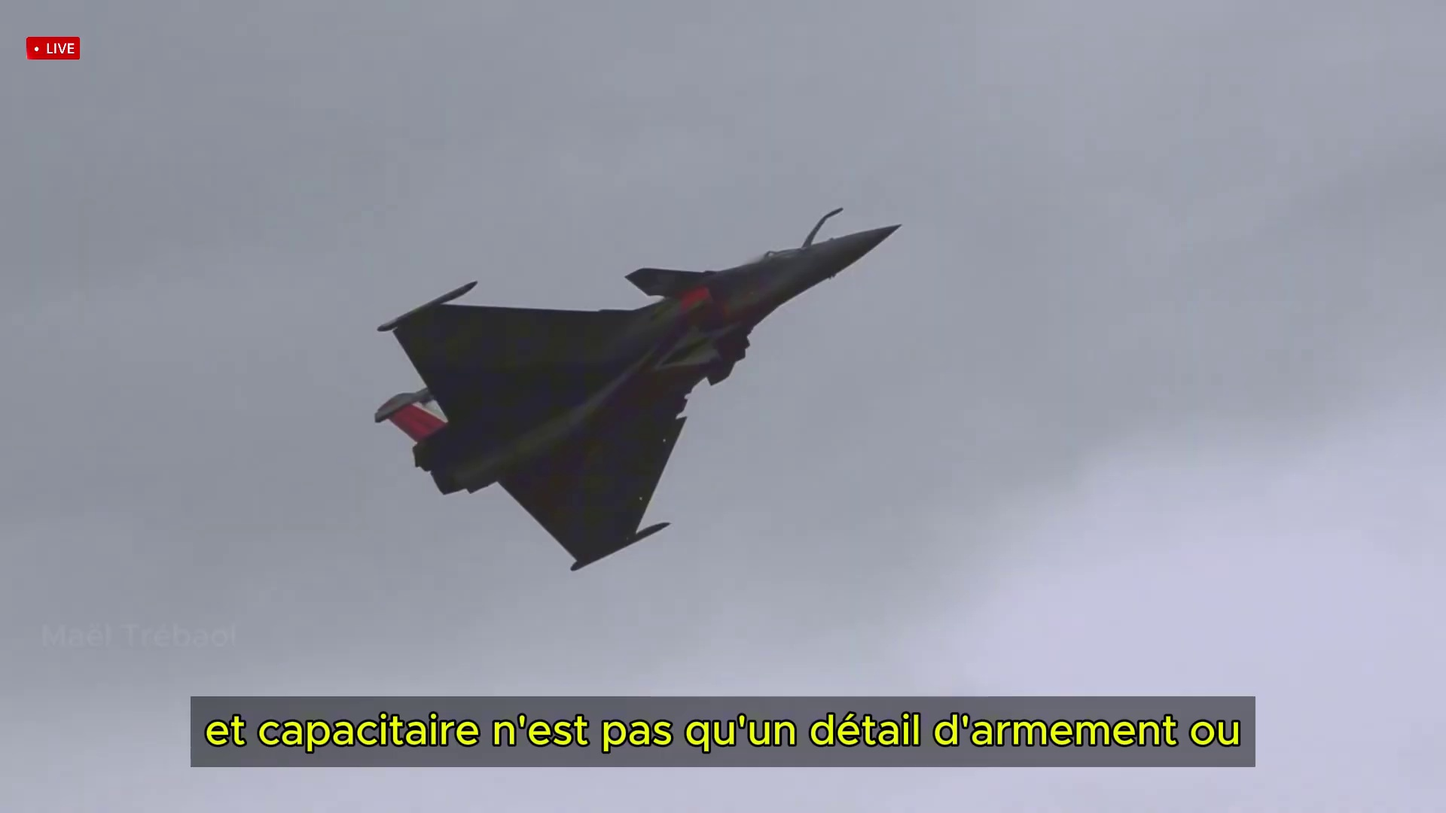Rafale: (372, 216, 891, 578)
